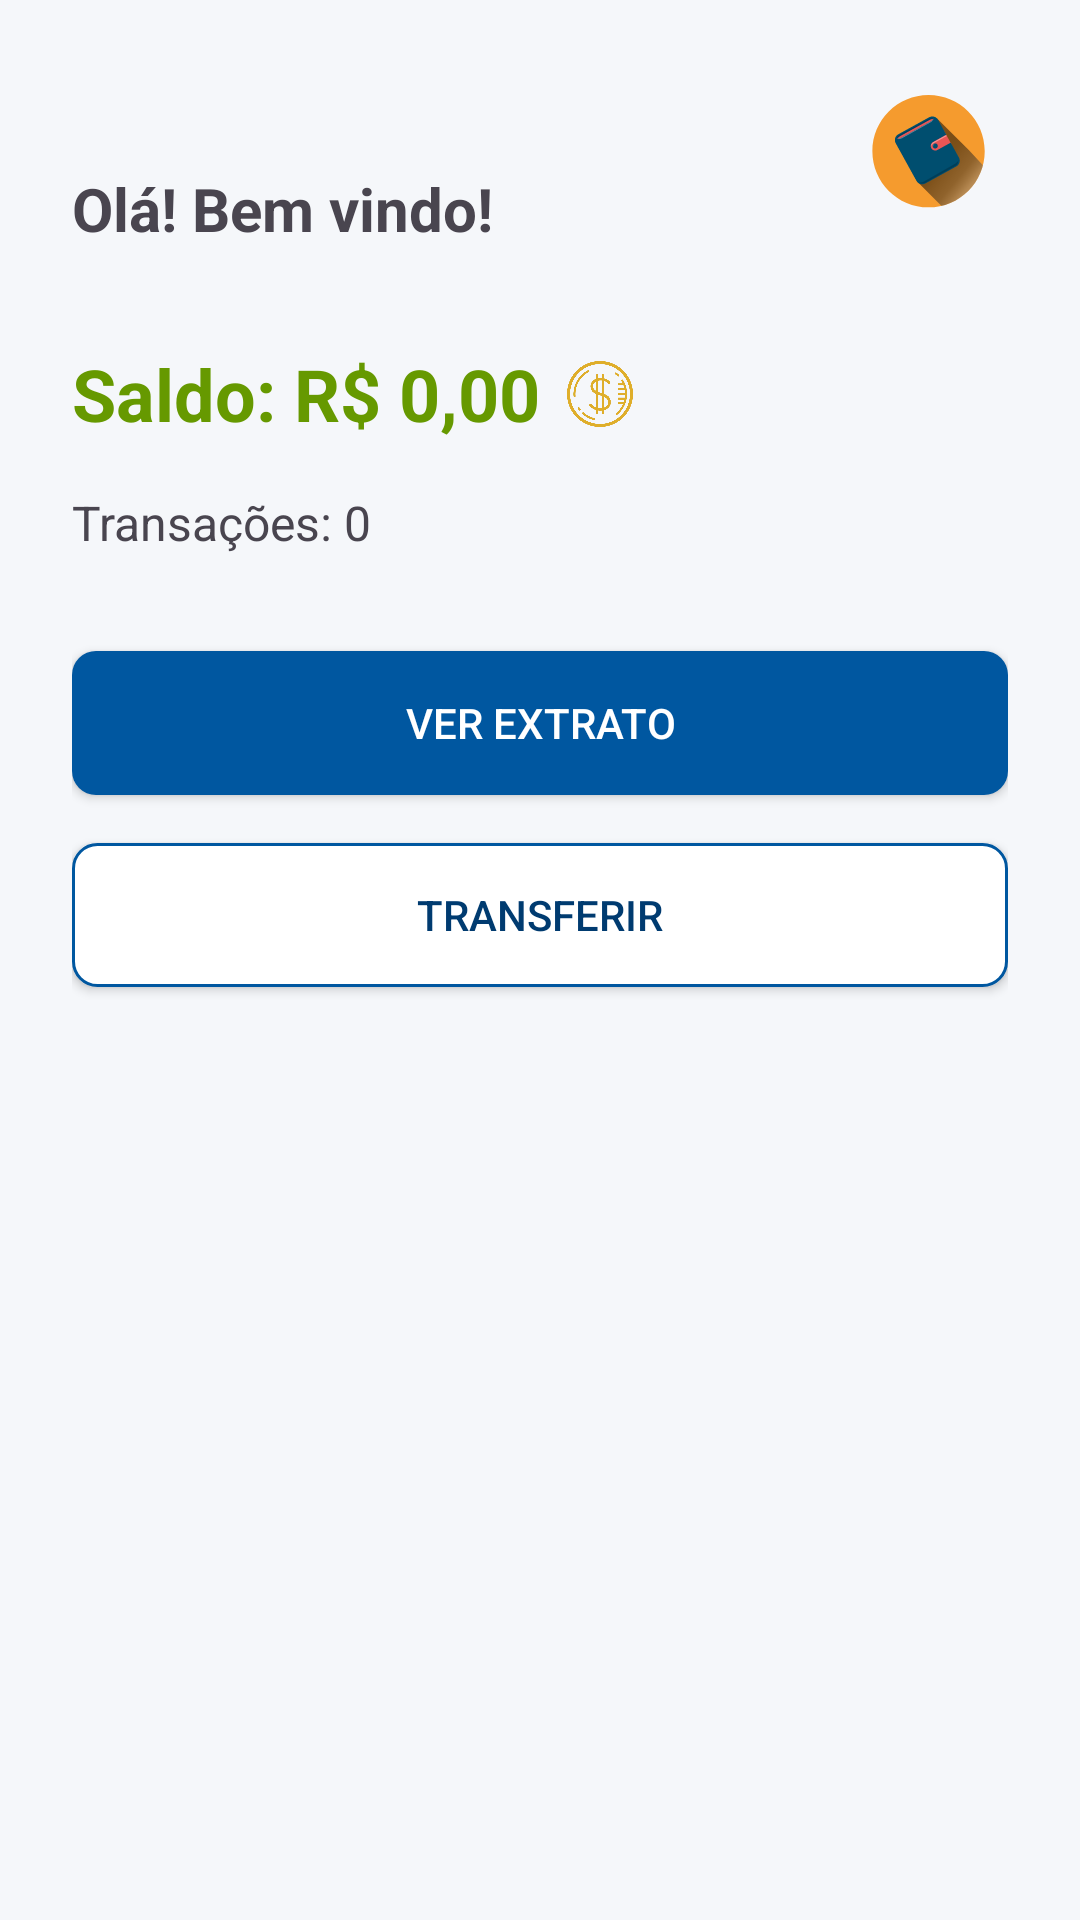

Icon click points for this 1080×1920 phone screenshot, format (x=x, y=y):
money: (x=600, y=394)
wallet: (x=928, y=151)
